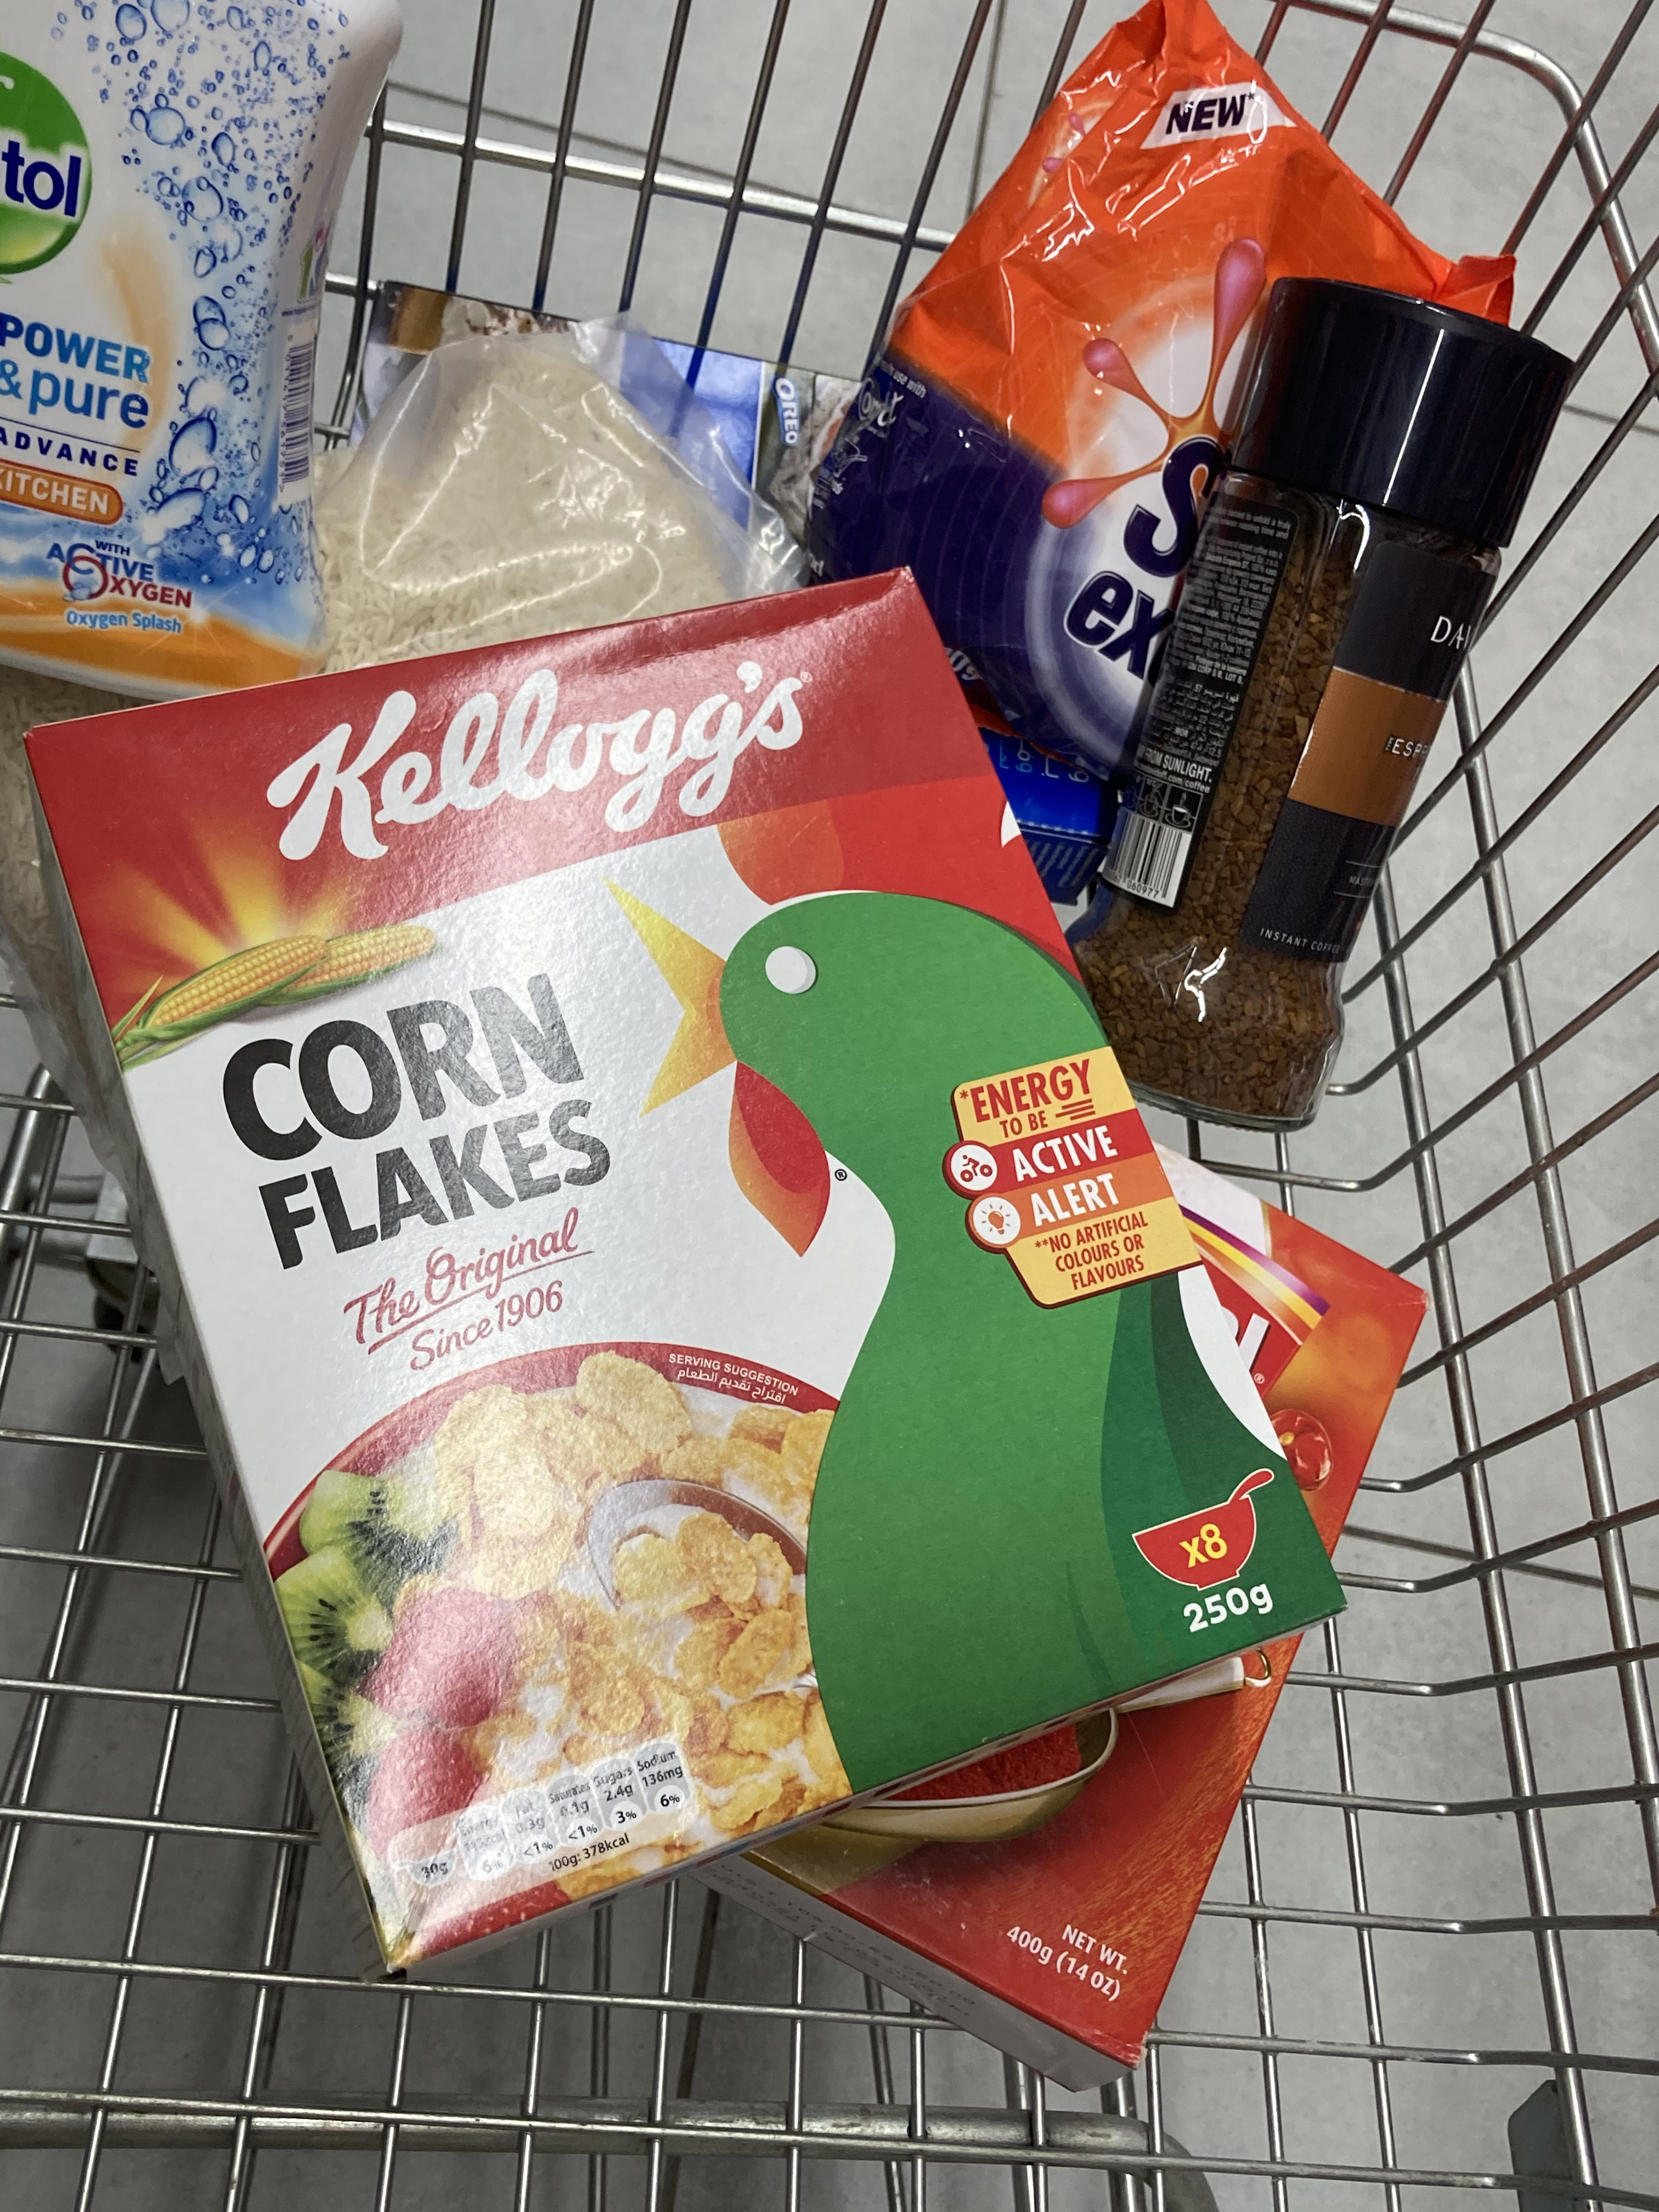Kellogg's Corn Flakes: (19, 564, 1338, 1973)
